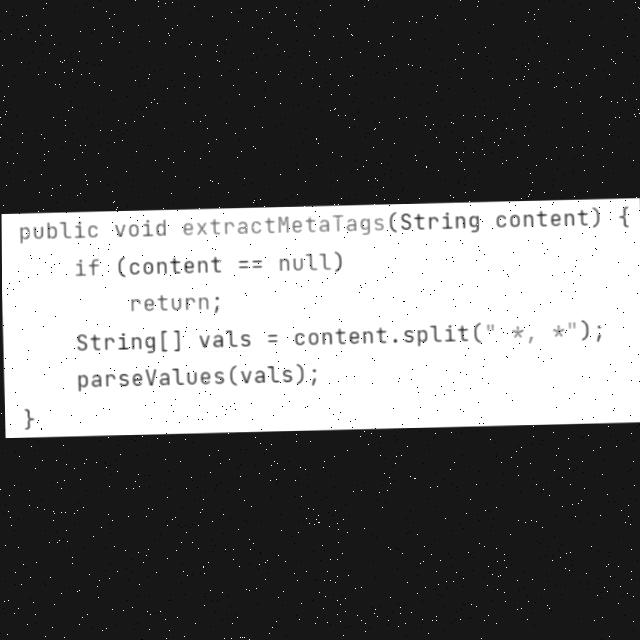code_screen: (2, 199, 640, 437)
